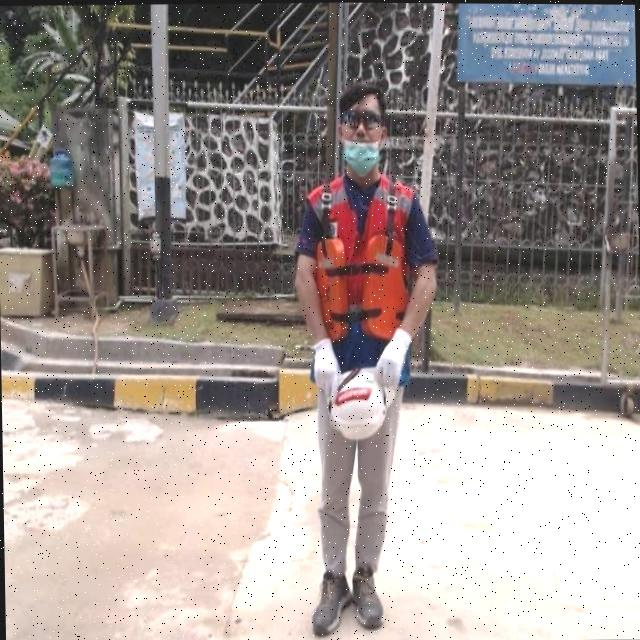goggles_on: (334, 106, 392, 136)
